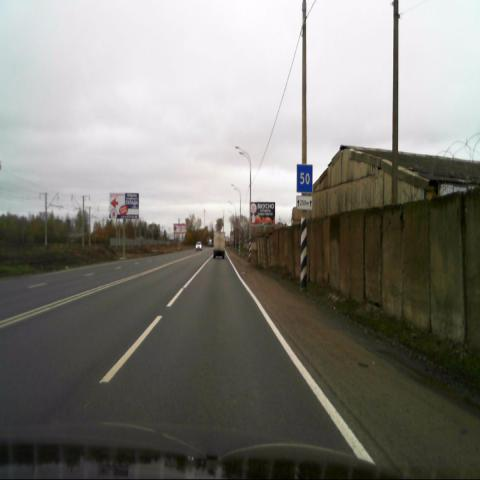6_2: (296, 165, 313, 192)
